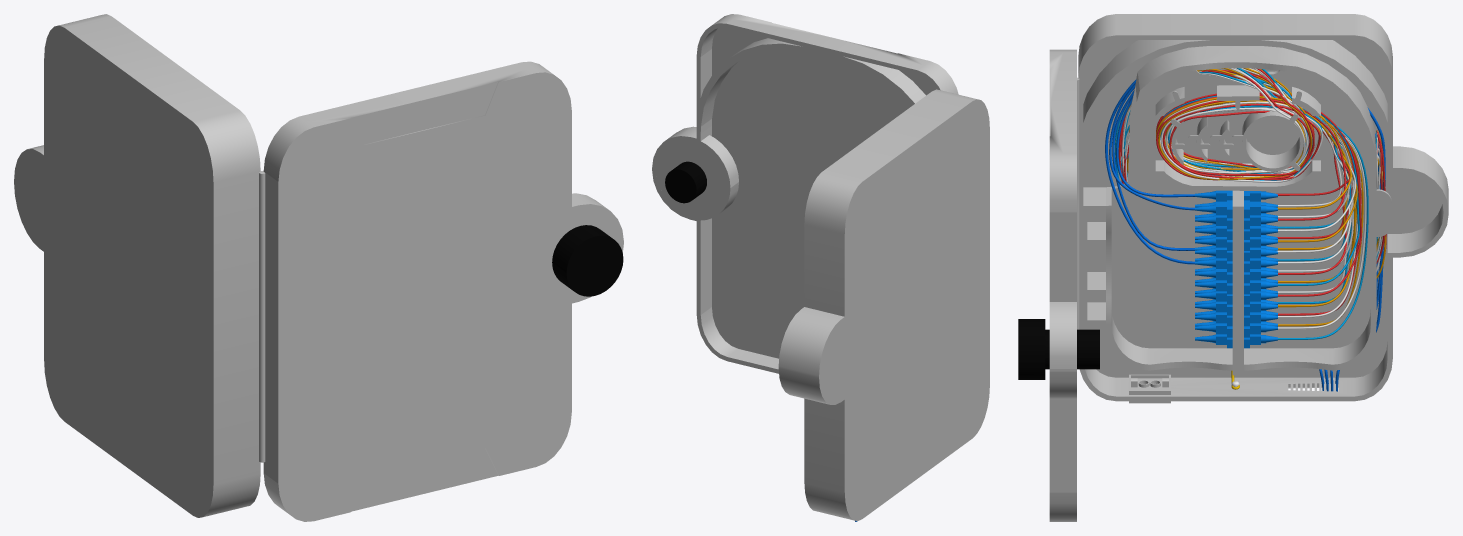
The model's file is ODC.fbx.
The picture shows the model from 3 angles, left to right: view 1: azimuth 30°, elevation 25°; view 2: azimuth 150°, elevation 25°; view 3: azimuth 270°, elevation 25°; orthographic projection. The views are drawn at different scales.
Visible parts, largest first — view 1: Cylinder.002, Cube; view 2: Cube, Cylinder.002, Cylinder.003, Cylinder.004; view 3: Cube.003, Cube, Cylinder.002, Cube.015, Cylinder.001, Cube.007, Cube.004, NurbsPath.023, NurbsPath.025, NurbsPath.024, NurbsPath.017, NurbsPath.028 (+23 smaller).
Boxes of the visible parts, x1,y1,x2,y2 form: Cylinder.002: [259, 61, 623, 521]; Cube: [14, 14, 260, 517]; Cube: [778, 89, 989, 521]; Cylinder.002: [652, 14, 958, 373]; Cylinder.003: [700, 135, 738, 220]; Cylinder.004: [656, 140, 700, 217]; Cube.003: [1106, 46, 1391, 370]; Cube: [1078, 14, 1448, 401]; Cylinder.002: [1018, 49, 1099, 521]; Cube.015: [1195, 190, 1277, 348]; Cylinder.001: [1155, 85, 1320, 191]; Cube.007: [1083, 187, 1105, 324]; Cube.004: [1232, 190, 1243, 375]; NurbsPath.023: [1124, 71, 1386, 253]; NurbsPath.025: [1120, 68, 1378, 250]; NurbsPath.024: [1127, 68, 1382, 238]; NurbsPath.017: [1165, 75, 1383, 252]; NurbsPath.028: [1105, 79, 1385, 391].
Bounding box in the file's own units: 3.04 × 3 × 3.09.
